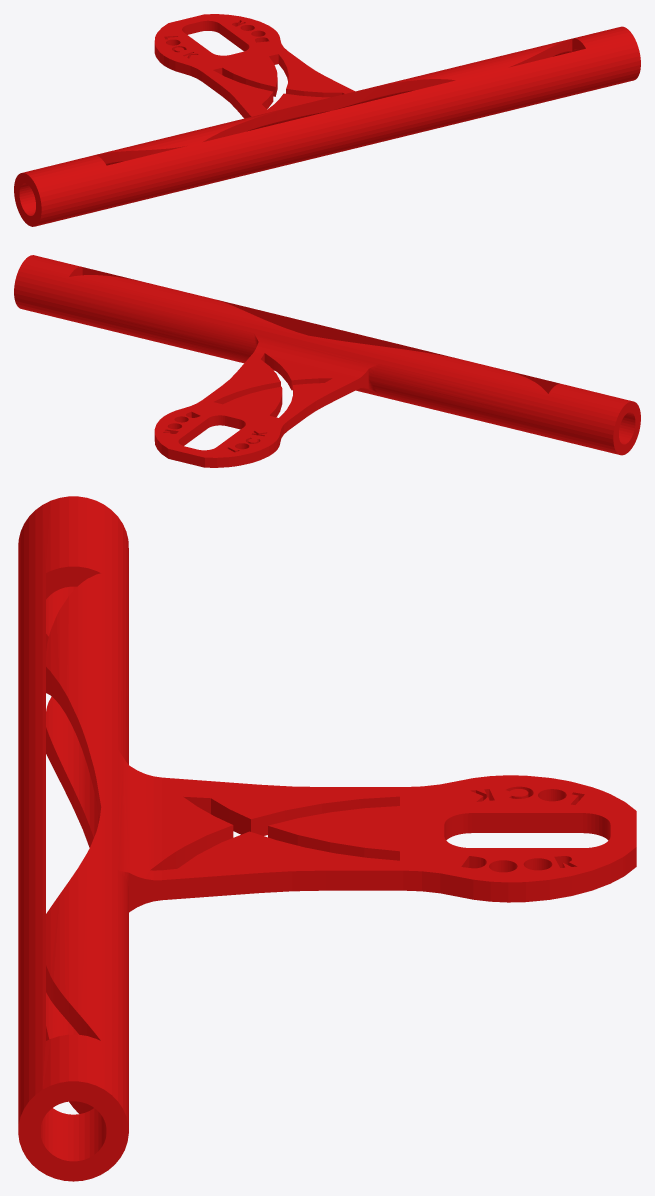
3 views of the same model, one above another, from view 1: azimuth 30°, elevation 25°; view 2: azimuth 150°, elevation 25°; view 3: azimuth 270°, elevation 25° (orthographic). The views are drawn at different scales.
Parts seen in each view (by area): view 1: MODERN DOOR LOCK ASSEMBLY - DOOR LOCK HANDLE-1.STL; view 2: MODERN DOOR LOCK ASSEMBLY - DOOR LOCK HANDLE-1.STL; view 3: MODERN DOOR LOCK ASSEMBLY - DOOR LOCK HANDLE-1.STL.
Boxes of the visible parts, bbox=[...] form: MODERN DOOR LOCK ASSEMBLY - DOOR LOCK HANDLE-1.STL: bbox=[14, 14, 640, 226]; MODERN DOOR LOCK ASSEMBLY - DOOR LOCK HANDLE-1.STL: bbox=[14, 255, 640, 467]; MODERN DOOR LOCK ASSEMBLY - DOOR LOCK HANDLE-1.STL: bbox=[18, 496, 636, 1181].
Size of the model in its own units: 2.5 by 0.1996 by 1.12.
